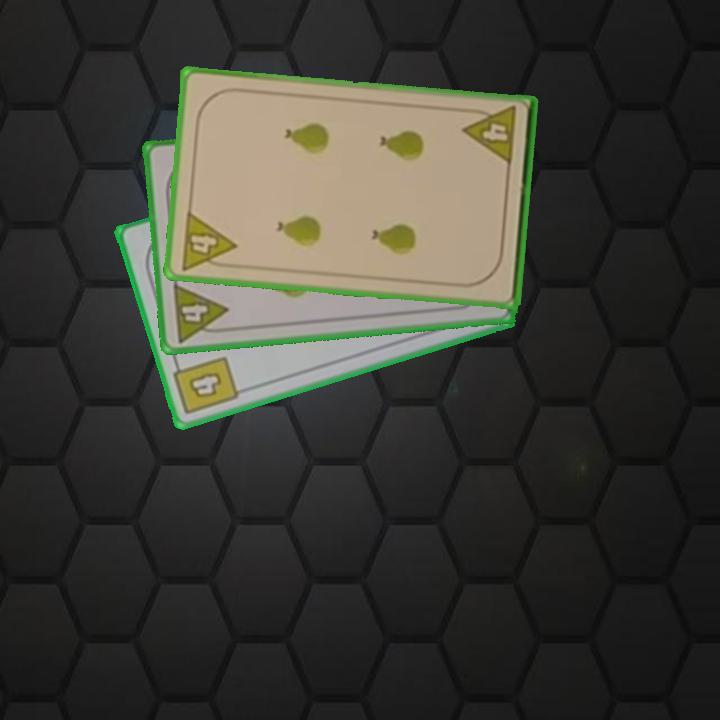4b: (169, 353, 242, 418)
4p: (169, 280, 232, 345), (177, 208, 239, 273), (460, 103, 519, 168)
